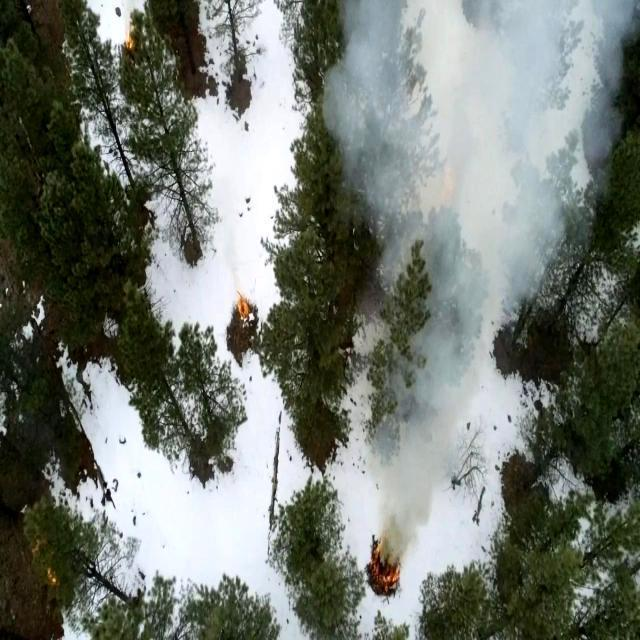Fire: (370, 544, 400, 595)
Smoke: (322, 0, 618, 314), (374, 311, 494, 532)
